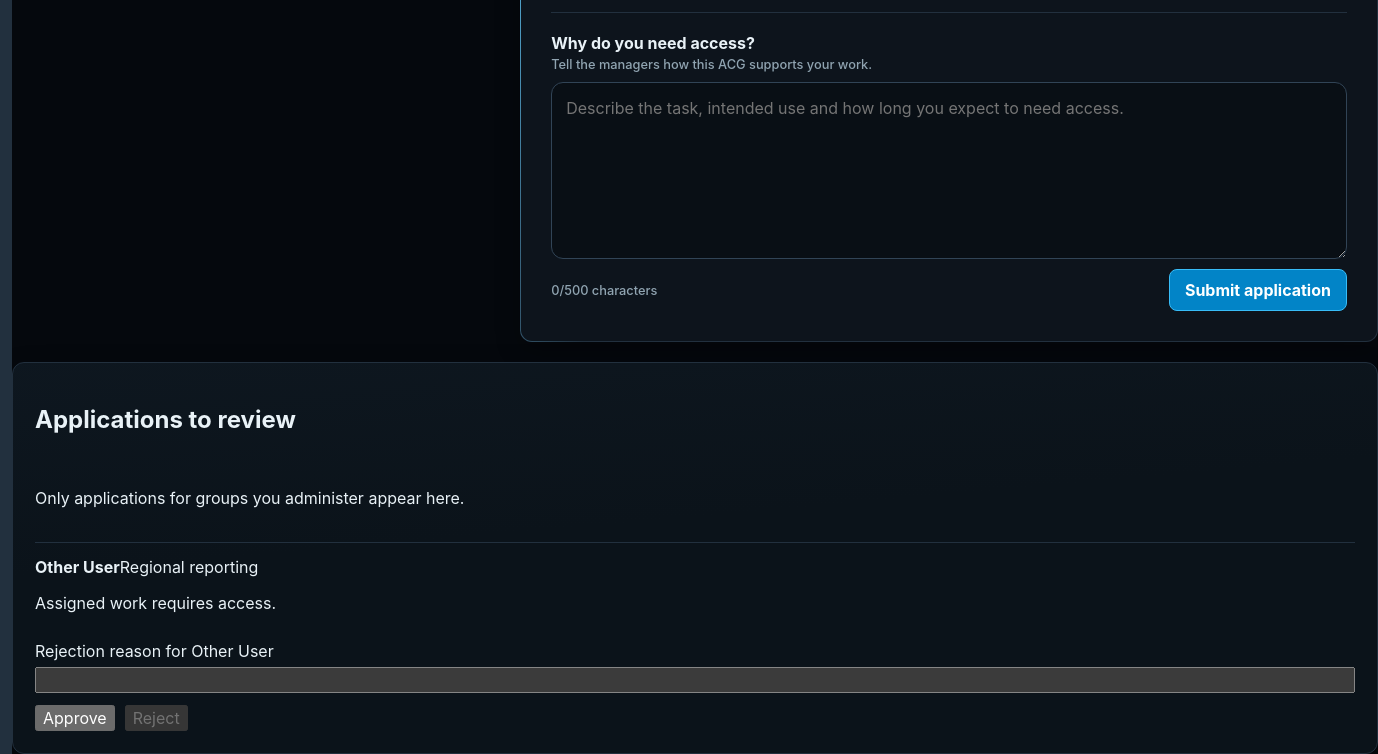
Scenario: shows a delegated review and retains decision feedback
(page scrolled)
Click the button "Approve".
click(75, 718)  # box [35,705,115,731]
(page scrolled)
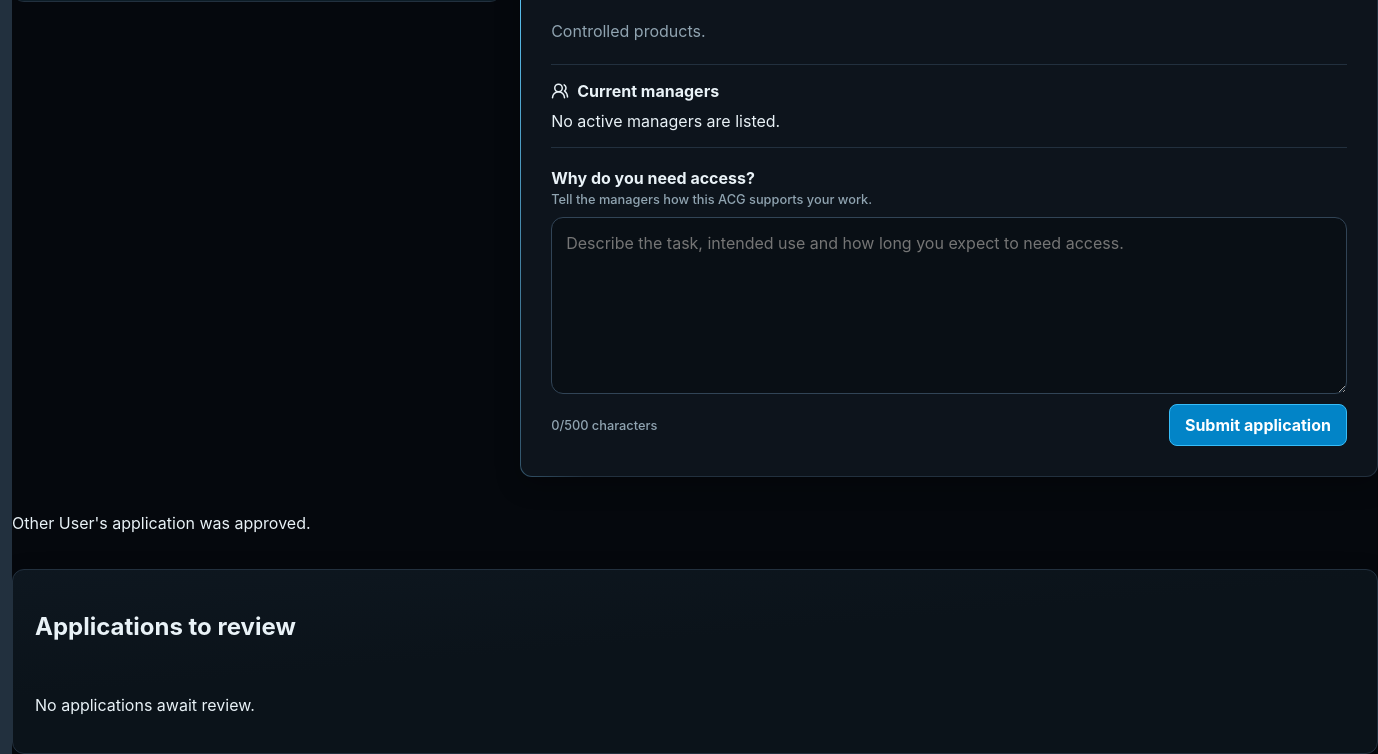
Check: the text "Other User's application was approved." is shown, box [12,513,310,533]
Check: the text "No applications await review." is shown, box [35,695,255,715]
